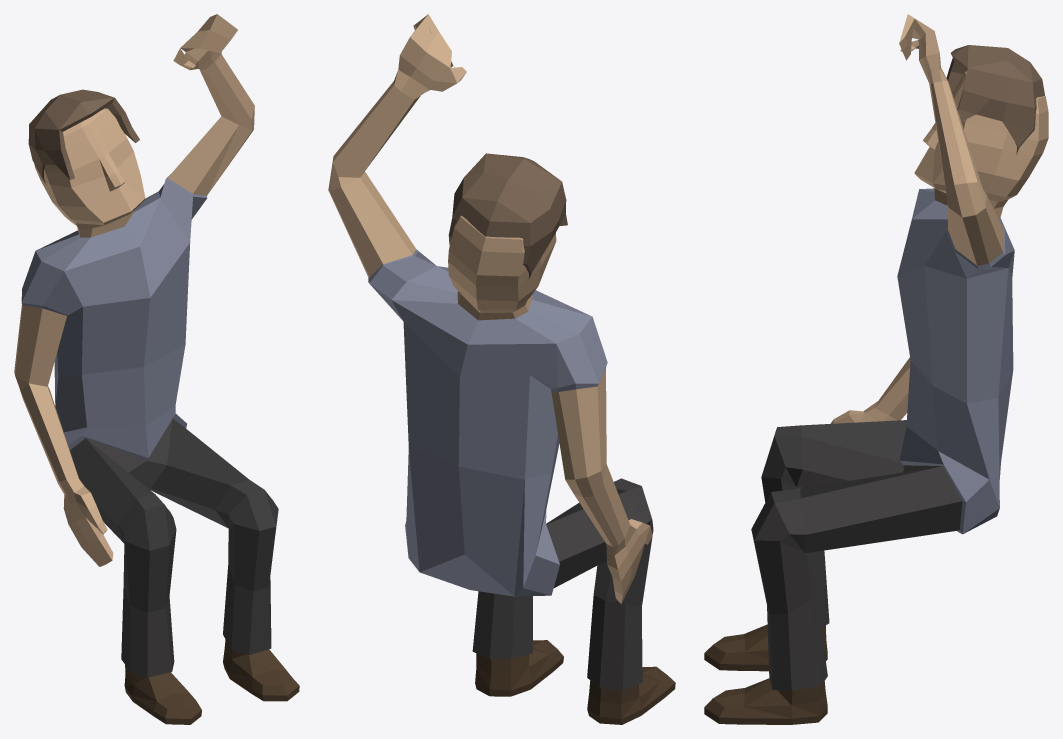
The model's file is male_cheer_hair1.glb.
3 views of the same model, side by side, from view 1: azimuth 30°, elevation 25°; view 2: azimuth 150°, elevation 25°; view 3: azimuth 270°, elevation 25° (orthographic). The views are drawn at different scales.
Parts seen in each view (by area): view 1: hair; view 2: hair; view 3: hair.
Boxes of the visible parts, x1,y1,x2,y2 form: hair: (14, 14, 299, 724); hair: (328, 14, 675, 724); hair: (704, 14, 1048, 724).
Bounding box in the file's own units: 0.672 × 1.68 × 0.7368.
